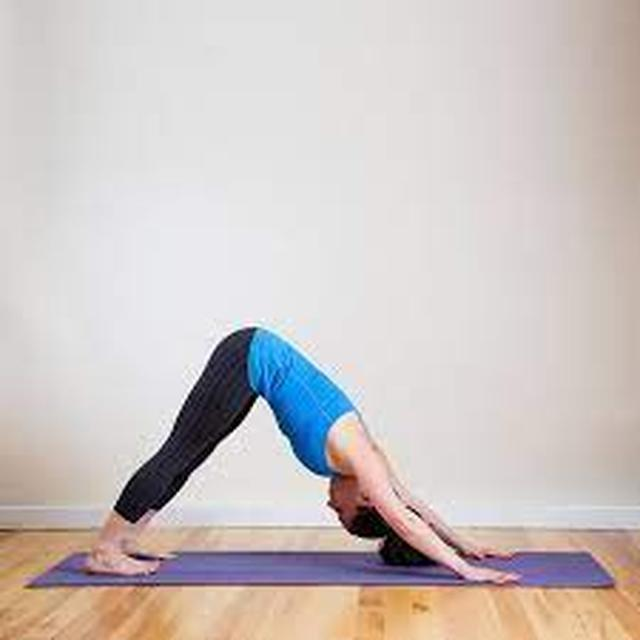Downward-Facing_Dog: (80, 320, 523, 590)
